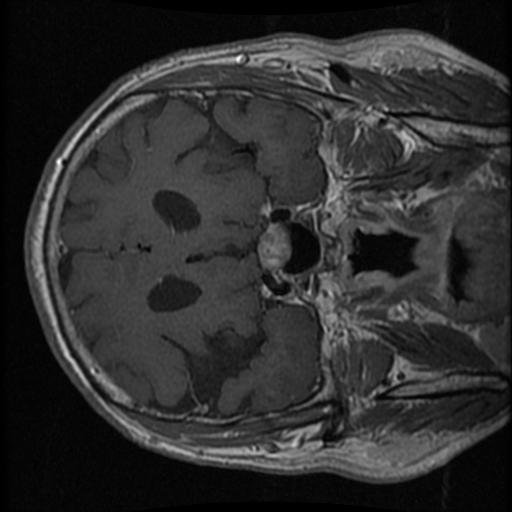pituitary tumour: (255, 222, 291, 275)
